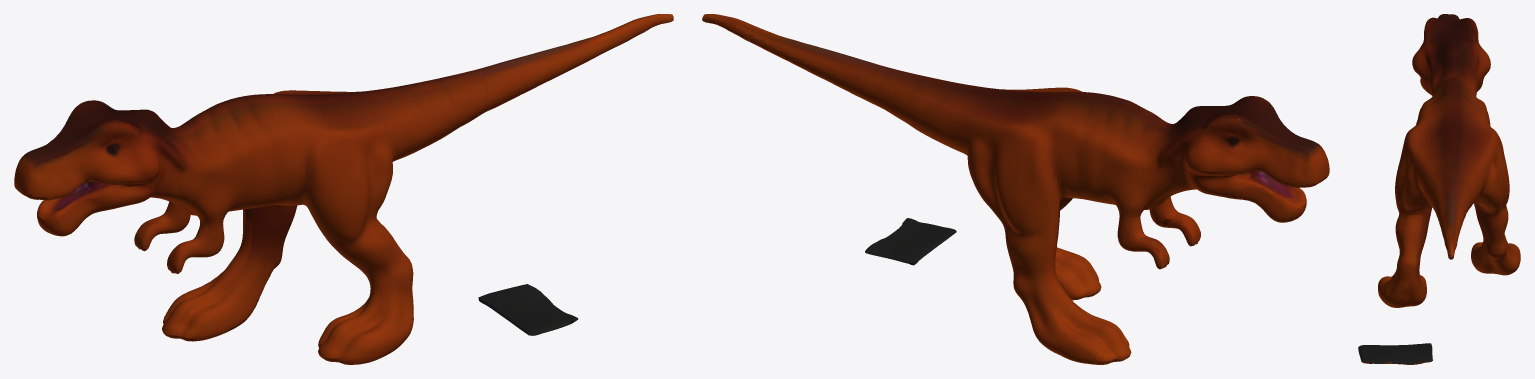
The model's file is dragon_1My.glb.
The picture shows the model from 3 angles, left to right: view 1: azimuth 30°, elevation 25°; view 2: azimuth 150°, elevation 25°; view 3: azimuth 270°, elevation 25°; orthographic projection. The views are drawn at different scales.
Parts seen in each view (by area): view 1: tmpfxgm1ed2.ply; view 2: tmpfxgm1ed2.ply; view 3: tmpfxgm1ed2.ply.
Part boxes in pixels (left/top/right/bottom): tmpfxgm1ed2.ply: left=14, top=14, right=673, bottom=364; tmpfxgm1ed2.ply: left=702, top=14, right=1329, bottom=364; tmpfxgm1ed2.ply: left=1358, top=14, right=1520, bottom=364.
Size of the model in its own units: 1.99 by 0.7868 by 0.5842.
1 material, 1 textured.
